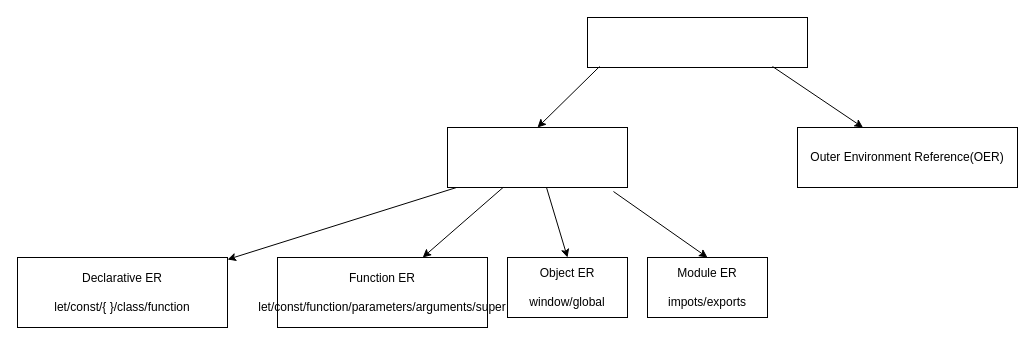
Some shapes in this 1035 by 345 pixel diagram are drawn without their labels. Each missing label, with the centre of its shape:
"Environment Record(ER)" belongs at point 537,157.
"Lexical Environment (LE)" belongs at point 697,42.
